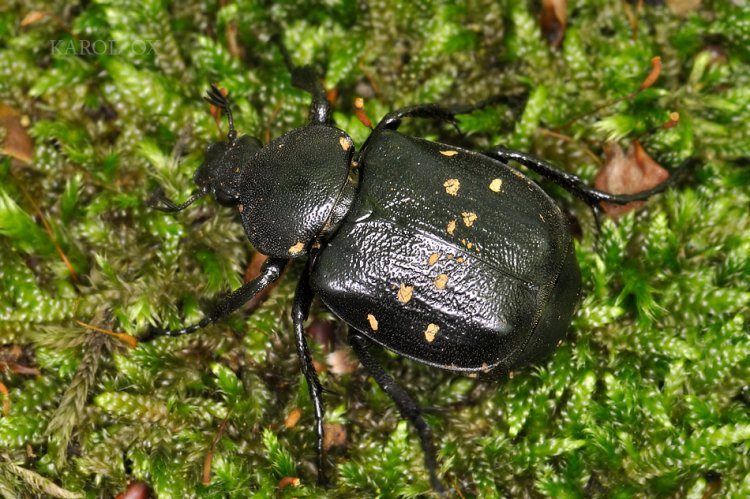Gnorimus_variabilis: (131, 58, 716, 499)
